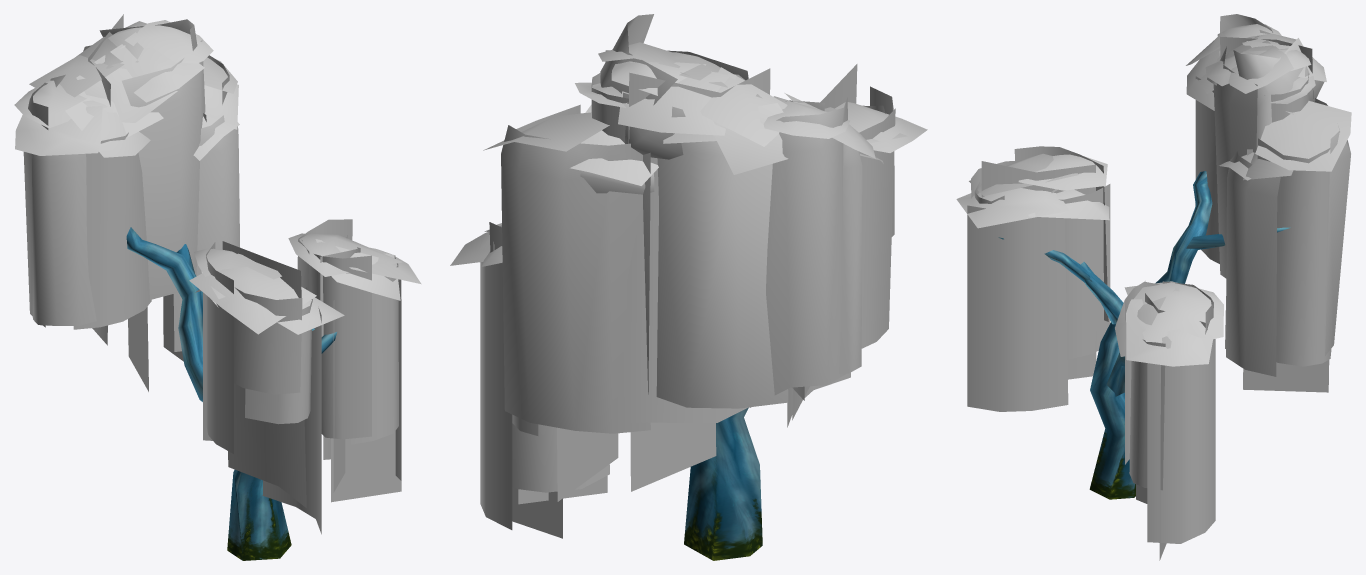
File: G_shu003.fbx
The picture shows the model from 3 angles, left to right: view 1: azimuth 30°, elevation 25°; view 2: azimuth 150°, elevation 25°; view 3: azimuth 270°, elevation 25°; orthographic projection. The views are drawn at different scales.
Parts seen in each view (by area): view 1: G_shu003; view 2: G_shu003; view 3: G_shu003.
Part boxes in pixels (x1,y1,x2,y2): G_shu003: (14, 14, 421, 560); G_shu003: (450, 14, 927, 560); G_shu003: (956, 14, 1351, 560).
Size of the model in its own units: 1986 by 2491 by 2049.
